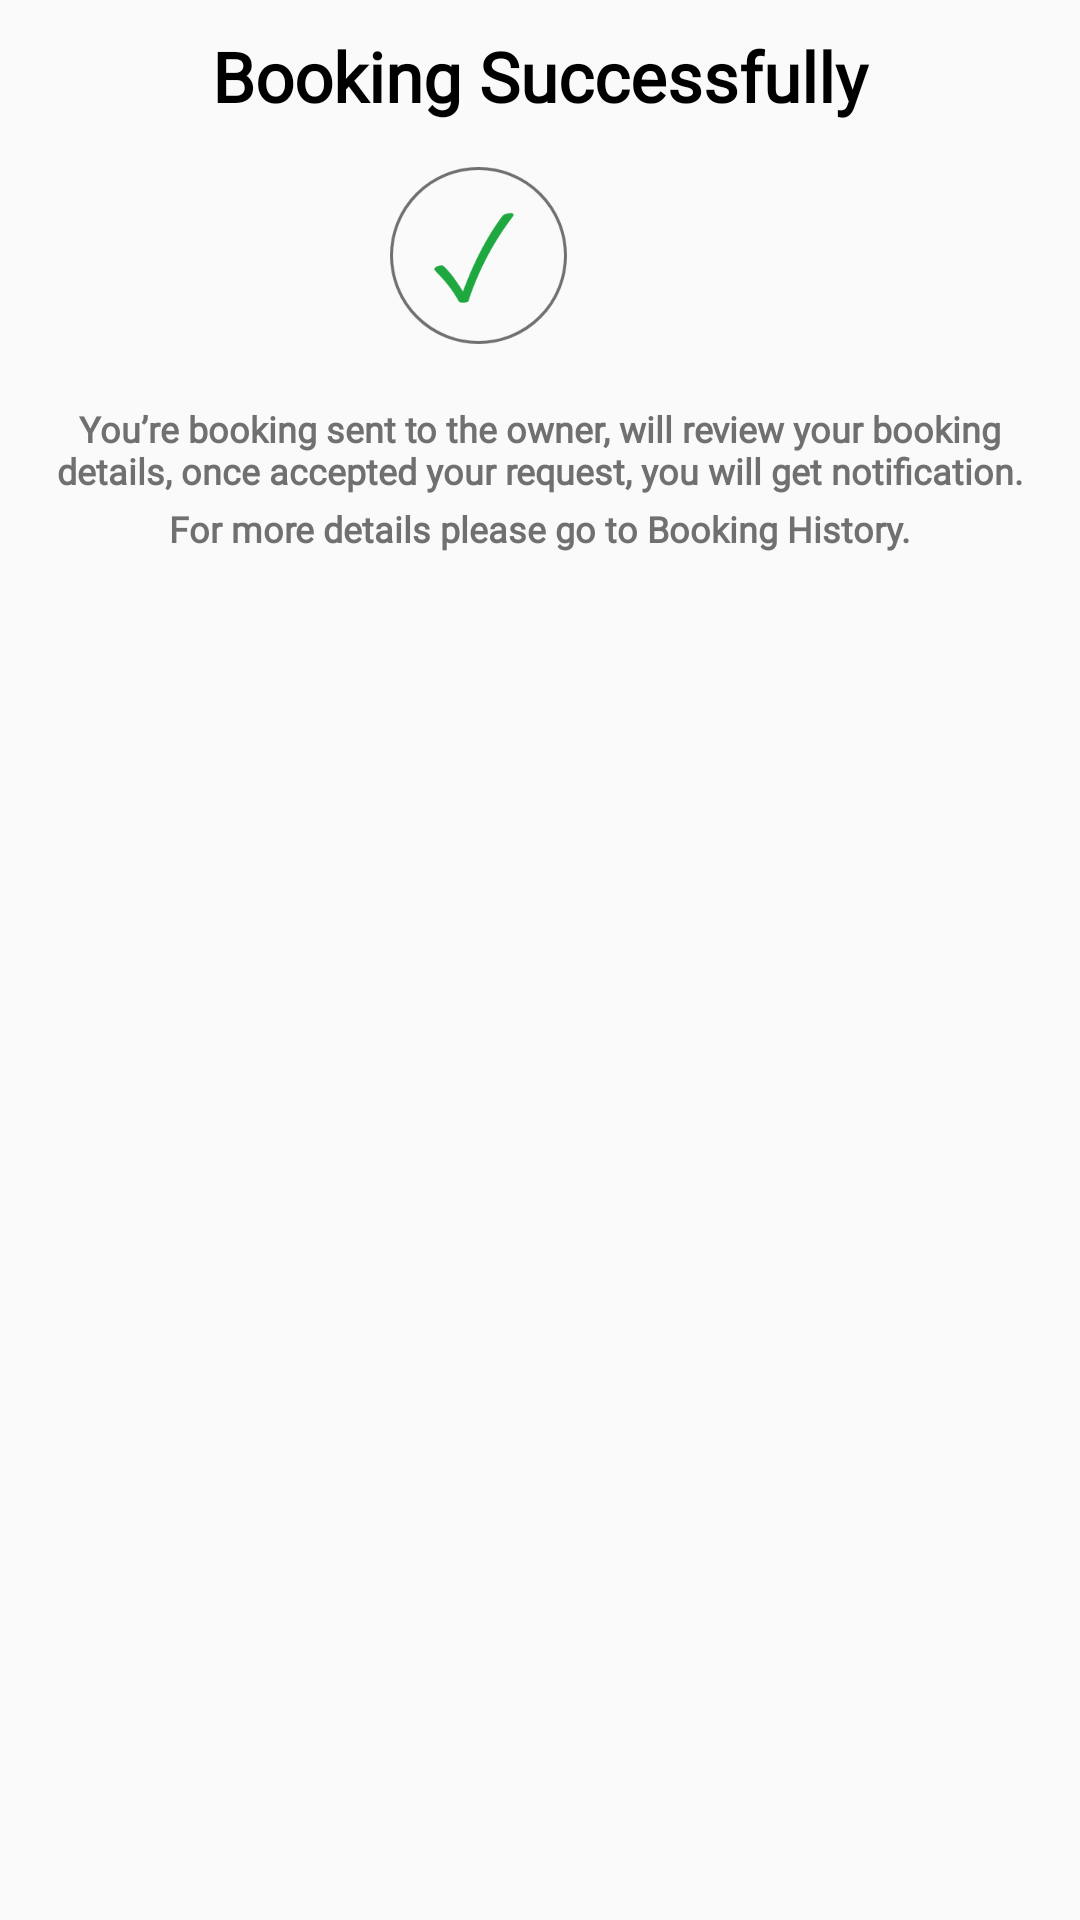

Icons on this 1080 x 1920 Android screen, each with the point to tap as (x,y):
succesfully: (478,255)
